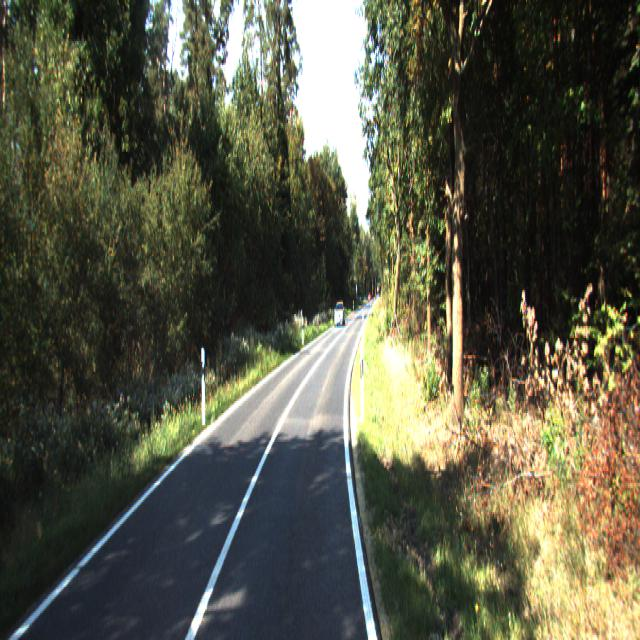Car: (333, 302, 346, 328)
